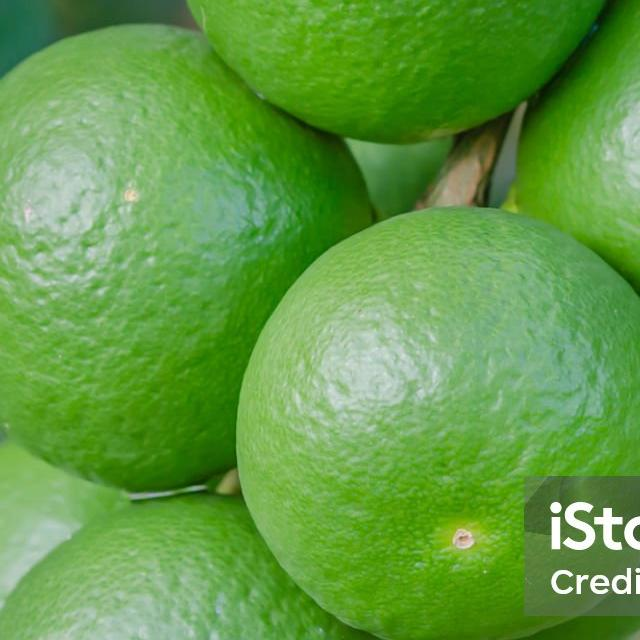lime: (180, 0, 618, 147), (0, 492, 381, 640)
